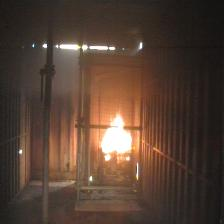fire: (104, 108, 133, 161)
